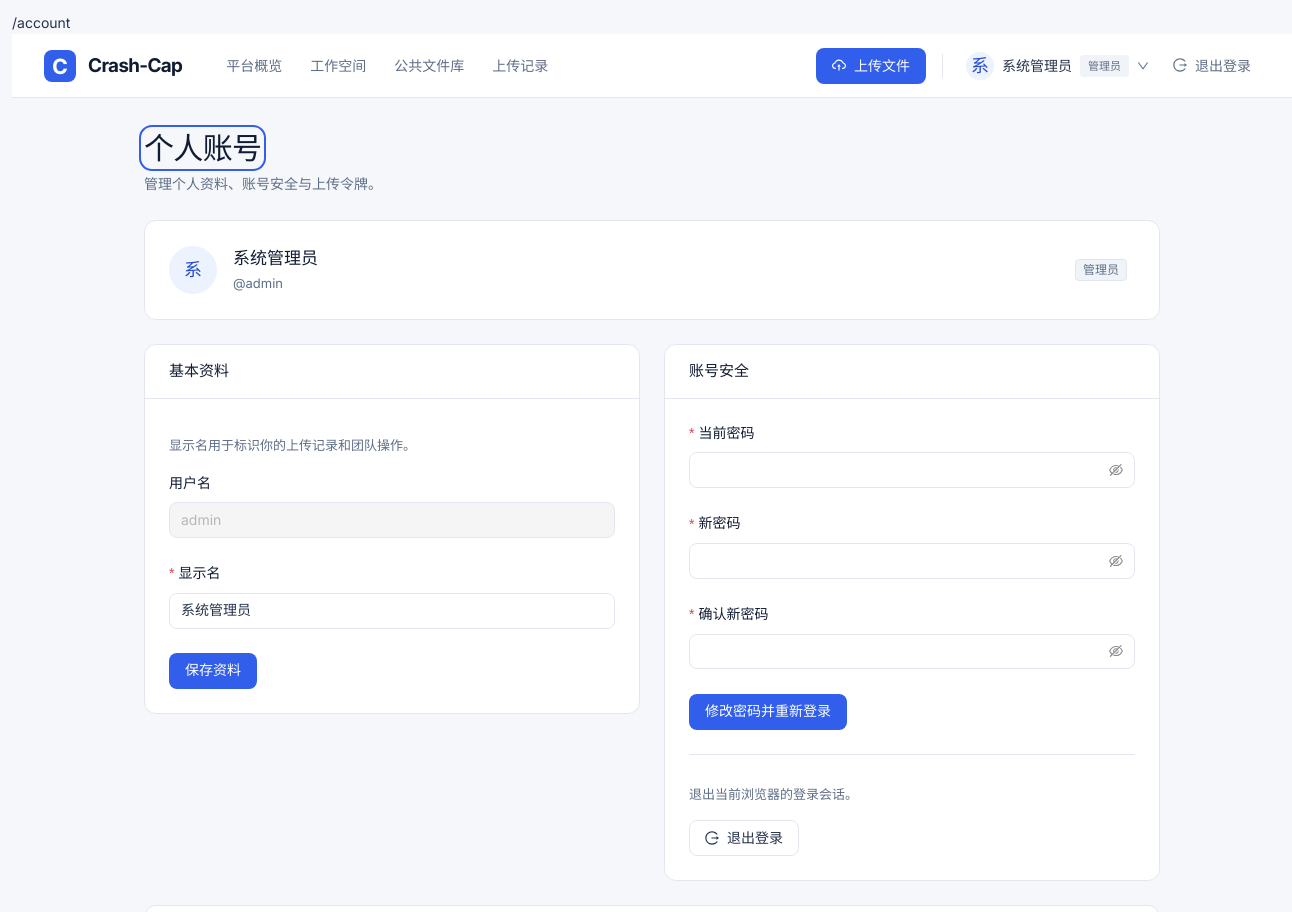
Test: logs out from both account-page entry points with one request and remounts the login screen at the same URL
This screenshot has width=1292, height=912.
Expected: the heading "个人账号" is shown, [144,130,261,166]
What coordinates should you click on to do the following:
click the button "退出登录" in the row of "公共文件库"
I would click on:
 (1212, 66)
Its box is [1164,48,1260,84].
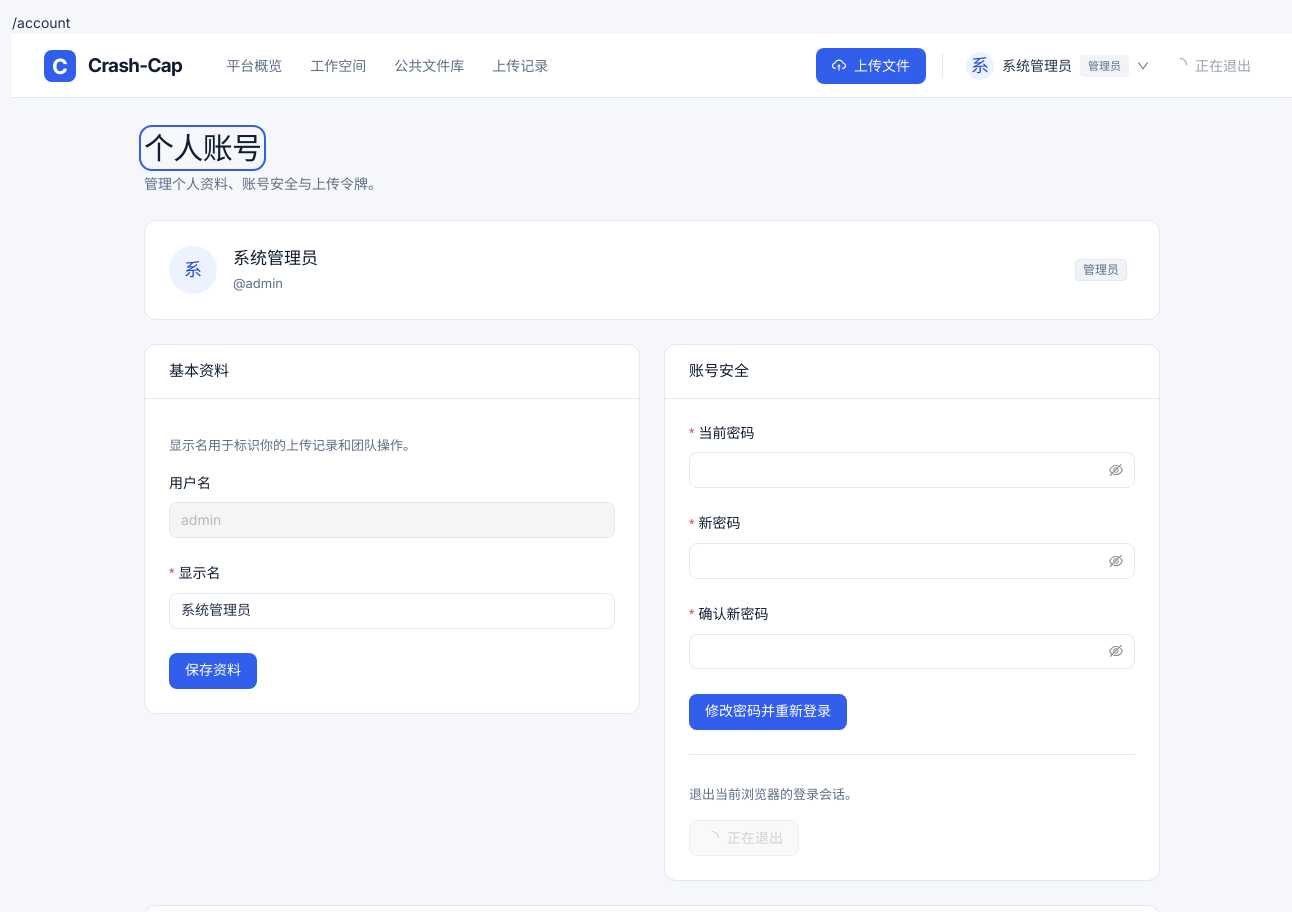
What coordinates should you click on to do the following:
click the button named "退出登录"
I would click on:
 (744, 838)
Its box is [689,820,799,856].
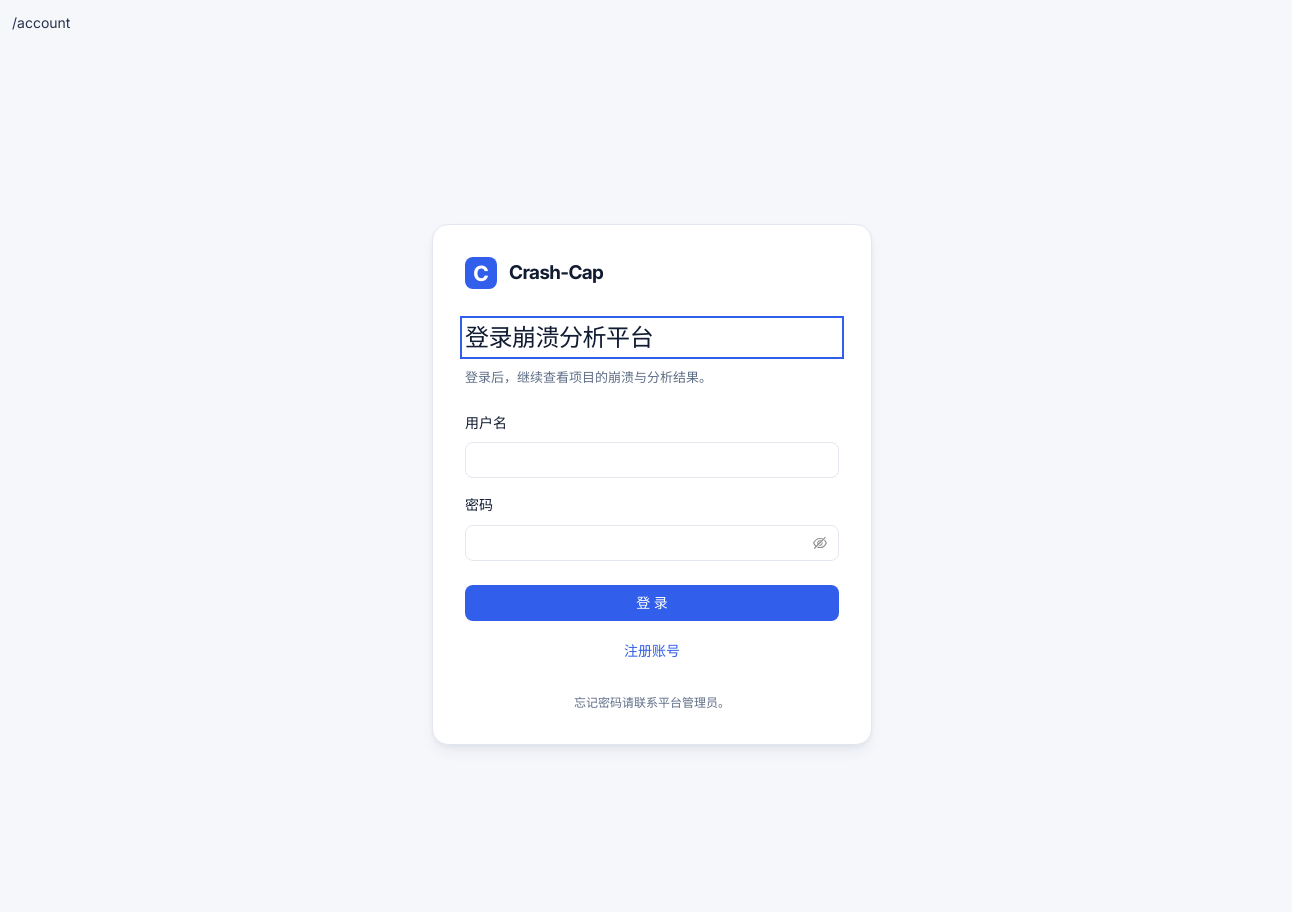
Expected: the text with test id "location" reads "/account", [12,14,70,31]
Expected: the heading "登录崩溃分析平台" is shown, [465,323,653,352]
